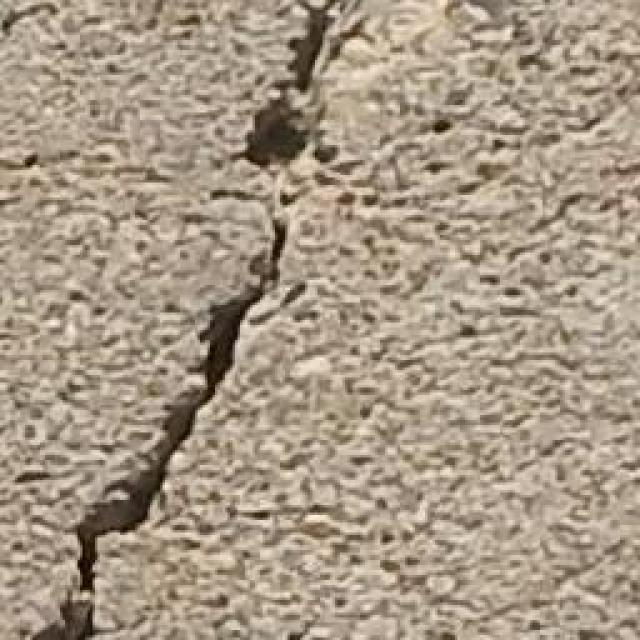concrete-crack: (20, 0, 359, 640)
